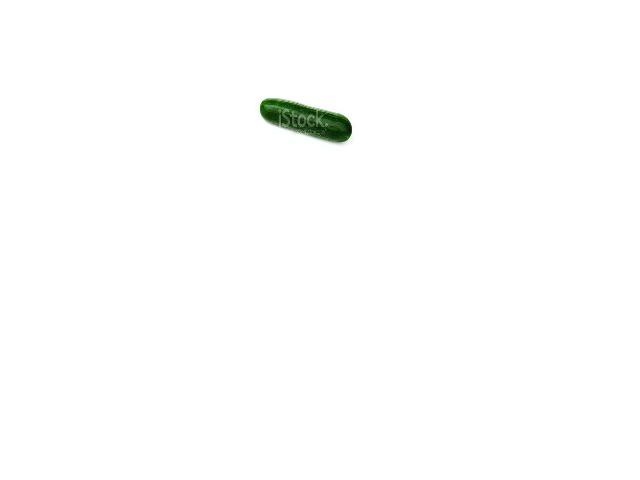cucumber: (260, 98, 352, 142)
